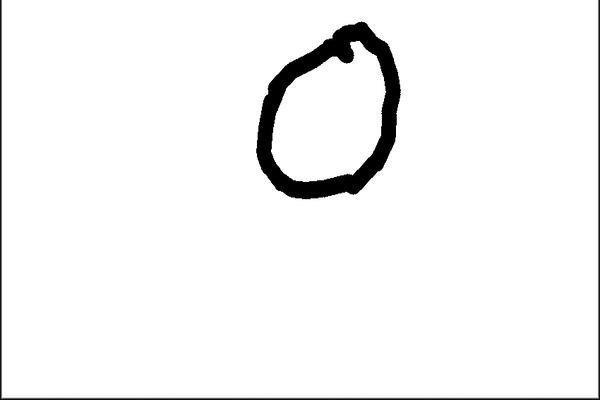O: (245, 19, 408, 209)
